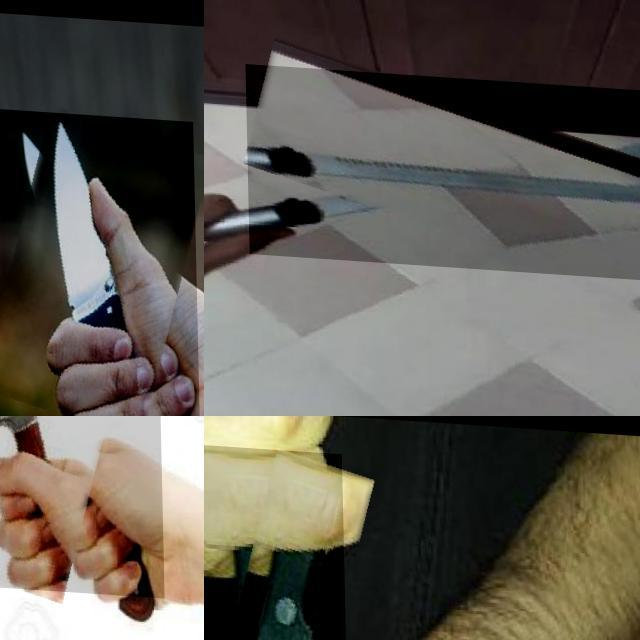-: (244, 62, 640, 277), (0, 105, 198, 416), (0, 416, 162, 640), (204, 441, 350, 640)
